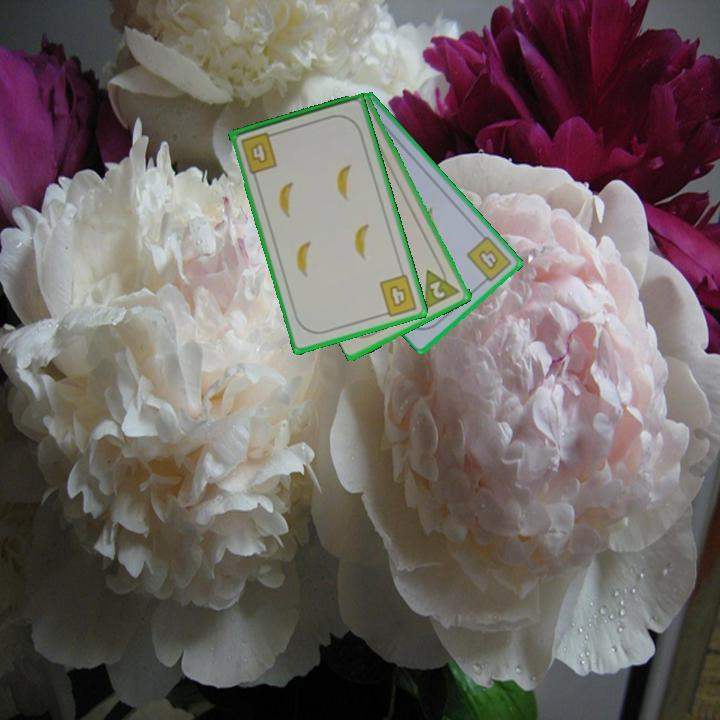2p: (421, 260, 463, 312)
4b: (463, 232, 515, 288), (376, 271, 420, 320), (237, 128, 281, 176)
